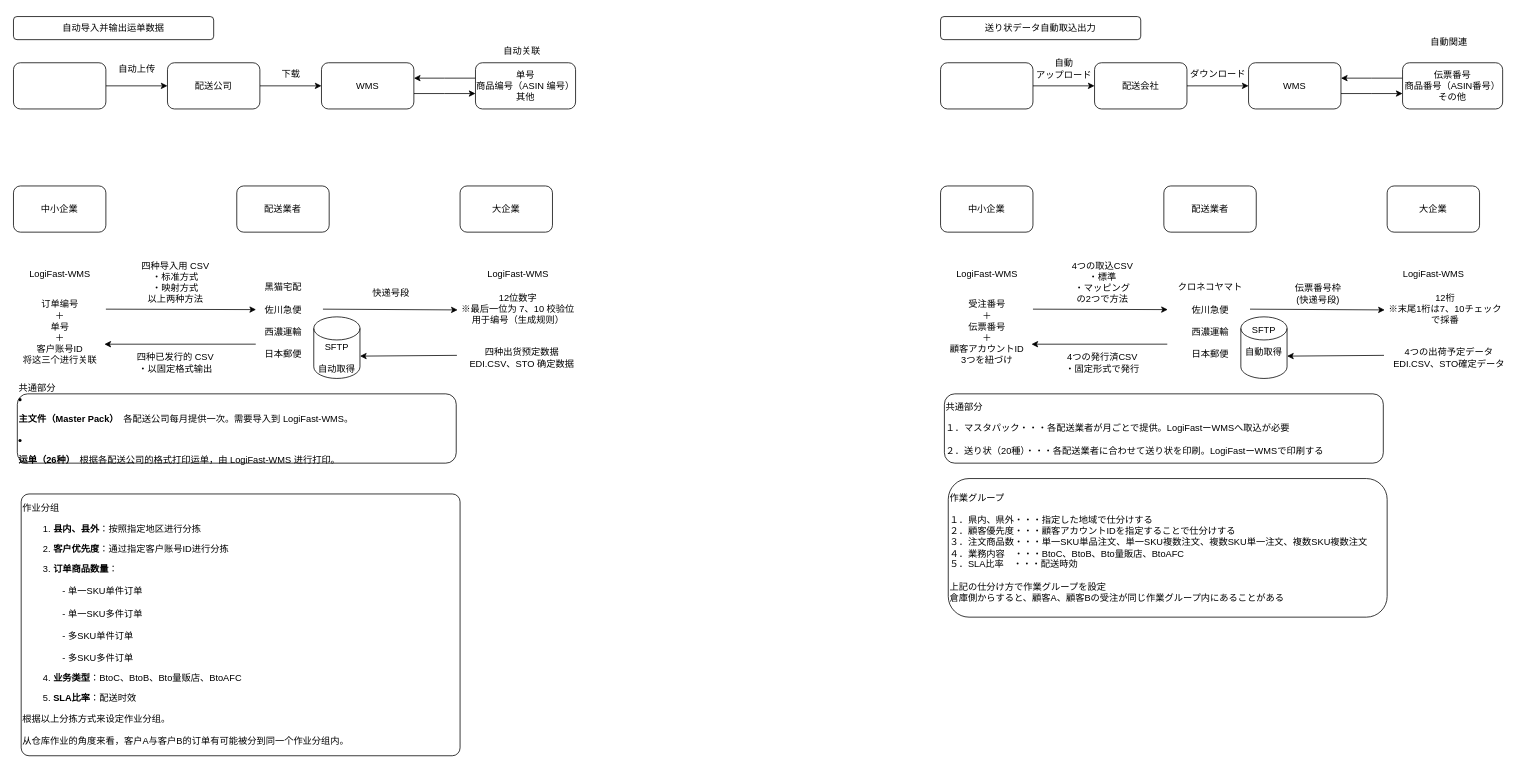
This 1528x769 diagram has some shape labels left out. Here are the shapes that lost their labels. From the top down, the centre of each, then its label:
At (x=59, y=85): "运单CSV".
At (x=986, y=85): "送り状ＣＳＶ".
